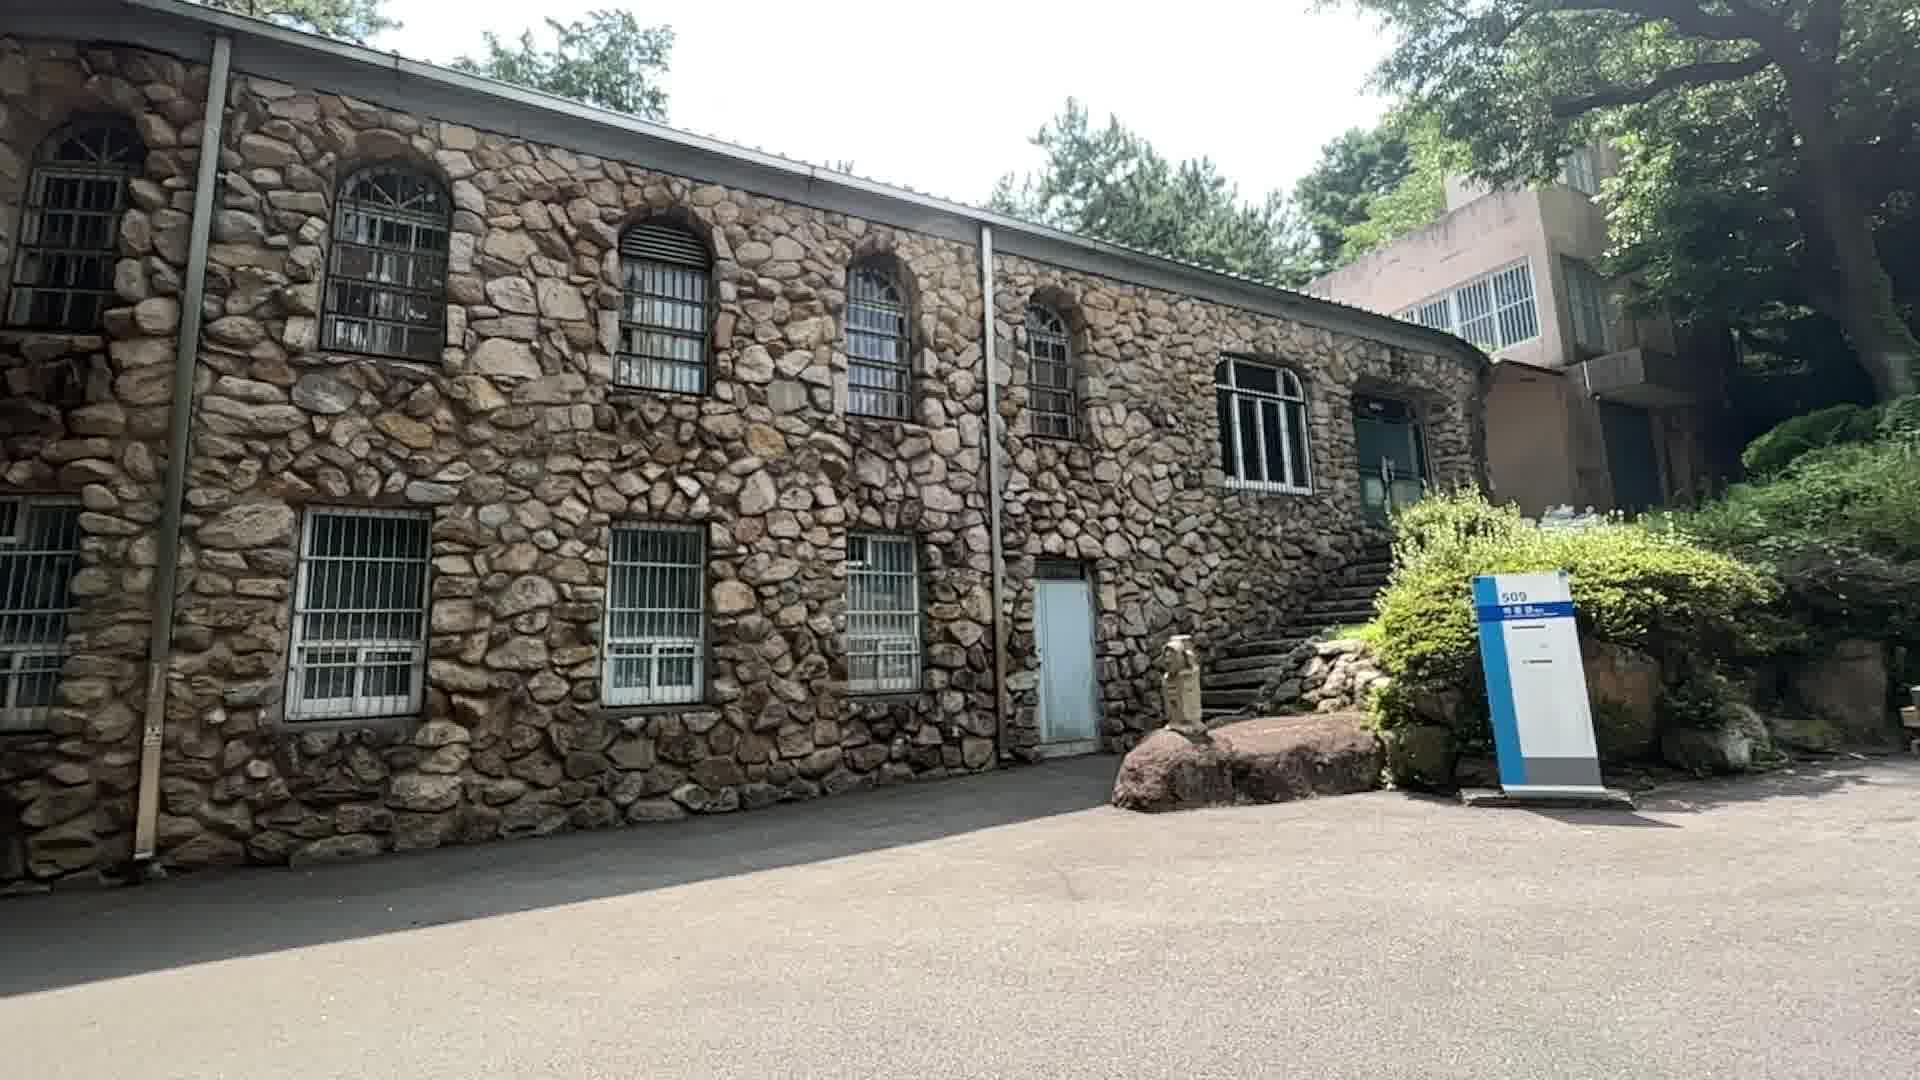building: (8, 59, 1435, 812)
